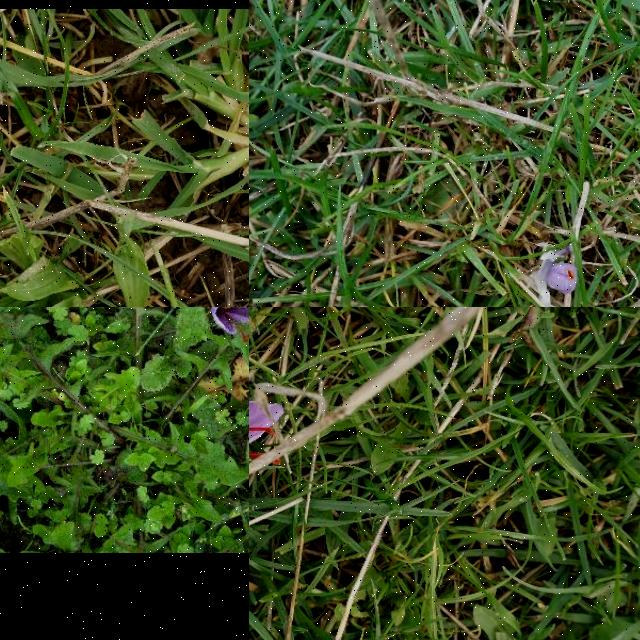flower: (249, 352, 285, 481), (547, 263, 579, 295)
